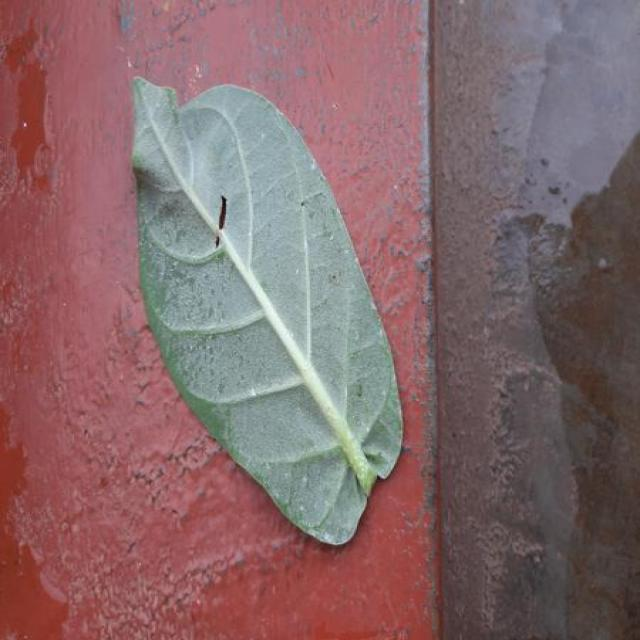ekka: (133, 78, 402, 543)
